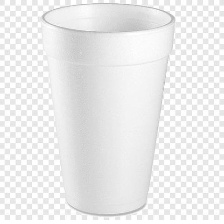glass: (37, 1, 179, 220)
